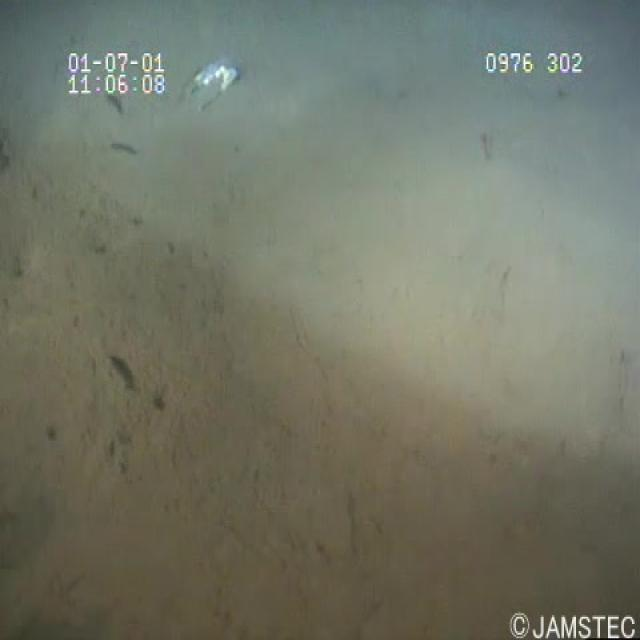plastic: (176, 46, 249, 123)
